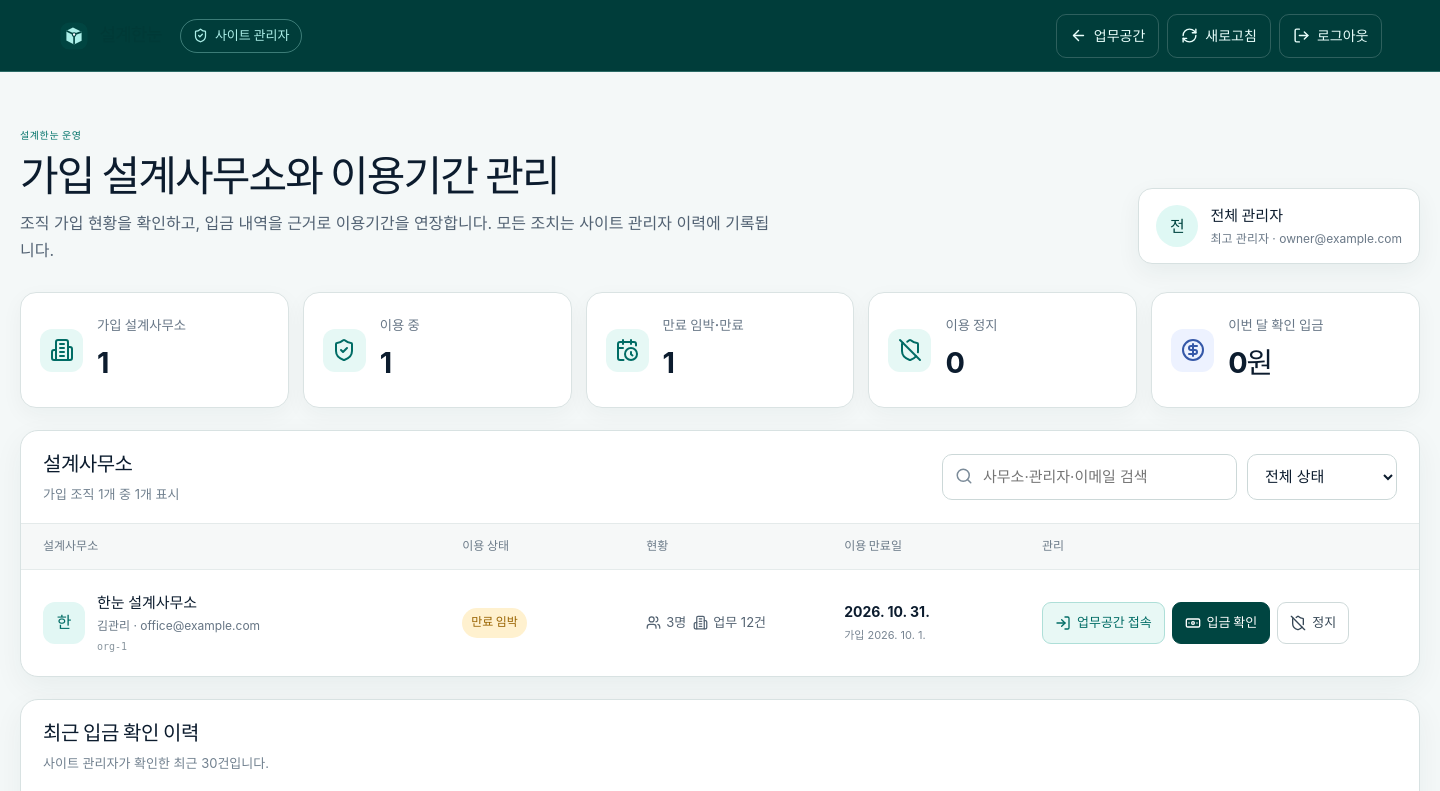
it: 사이트 전체 관리자 › 가입 사무소 현황을 표시하고 입금 확인으로 이용기간을 연장한다
expect the text "한눈 설계사무소" is shown: met, box [97,593,197,612]
expect the text "업무 12건" is shown: met, box [693,612,766,633]
Click the button "입금 확인". click: [1221, 623]
box: [1172,602,1270,644]
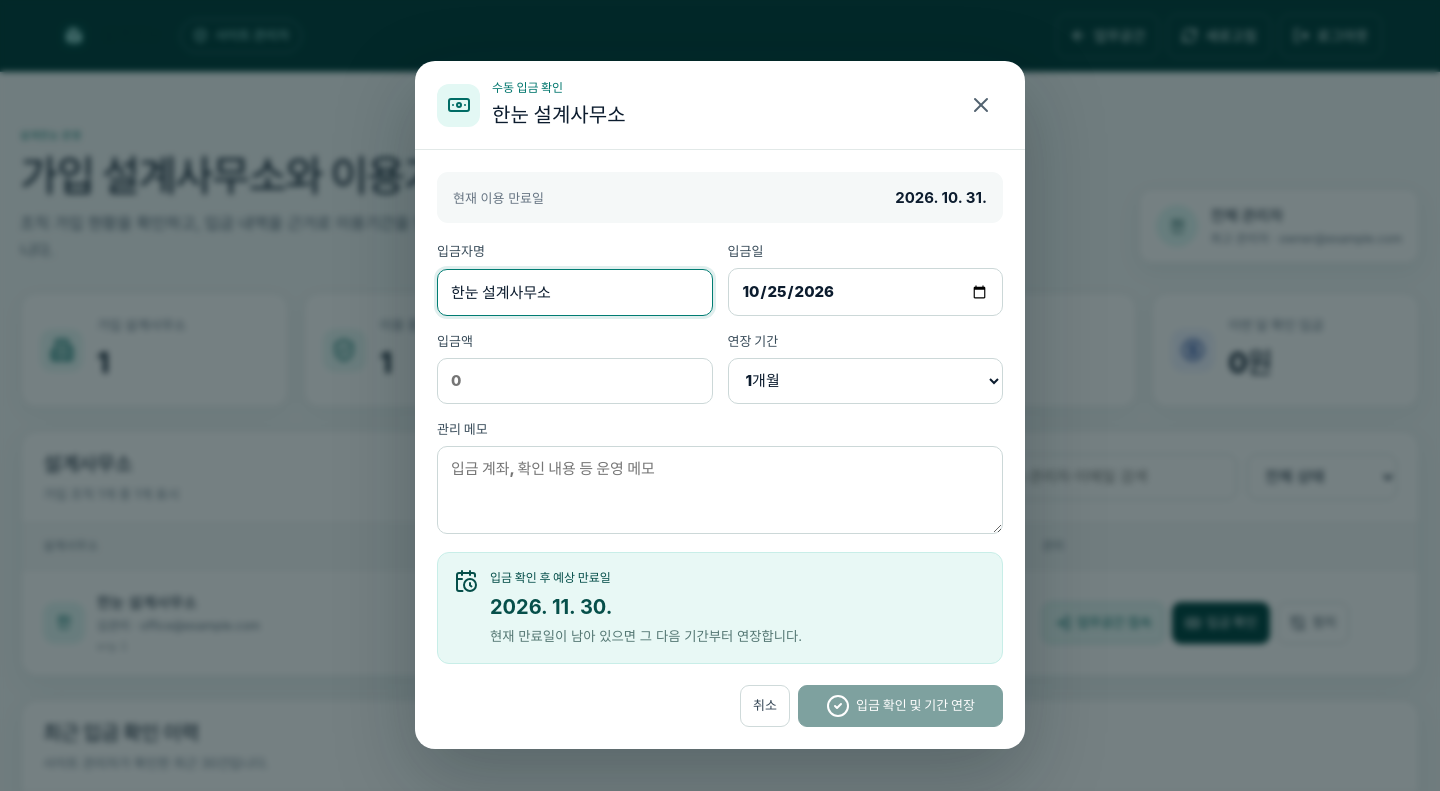
expect the dialog "한눈 설계사무소" is shown: met, box [415,62,1025,749]
Type "330000" into the field labelled "입금액". click: [575, 381]
box: [437,358,712,404]
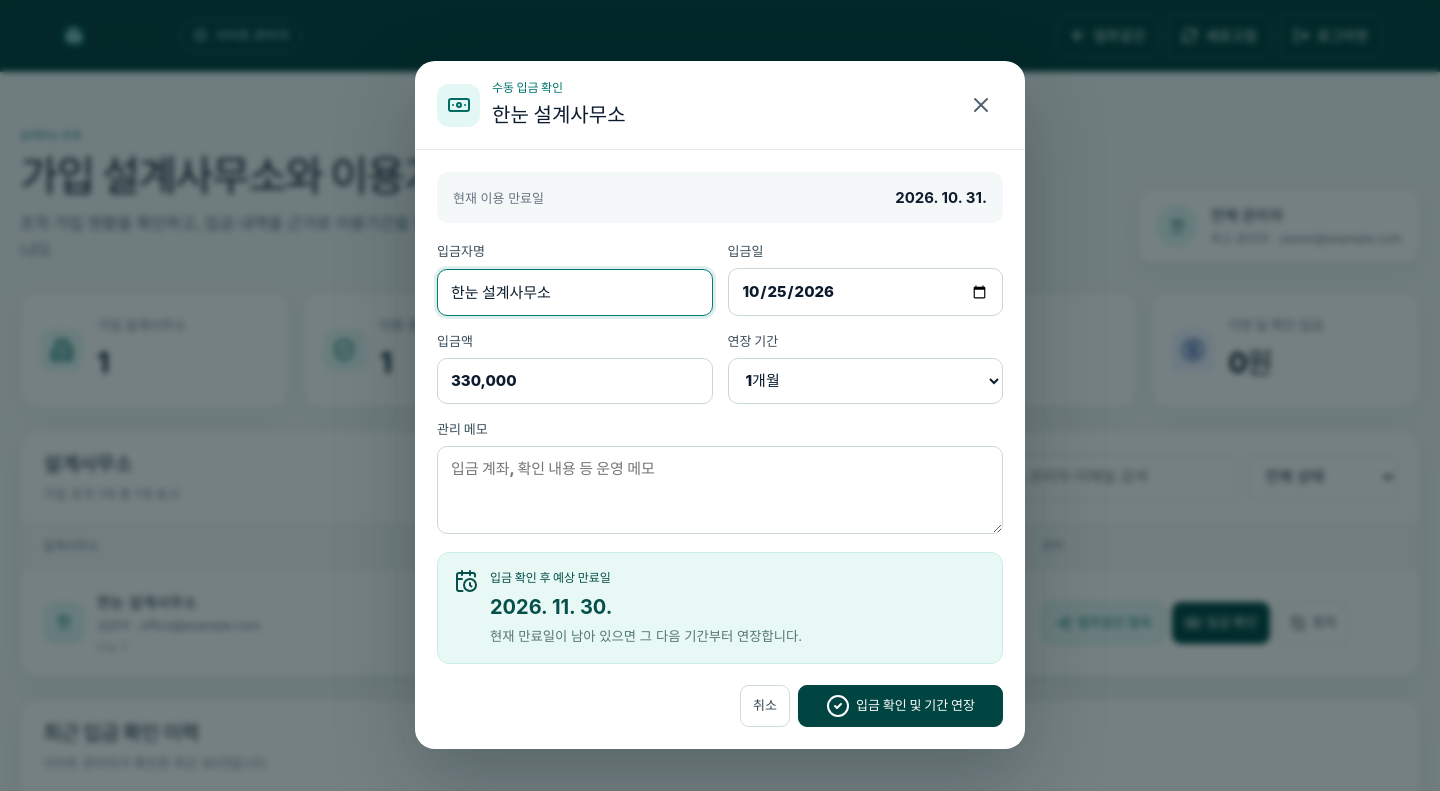
Select "3개월" in the dropdown labelled "연장 기간". click: [865, 381]
box: [728,358,1003,404]
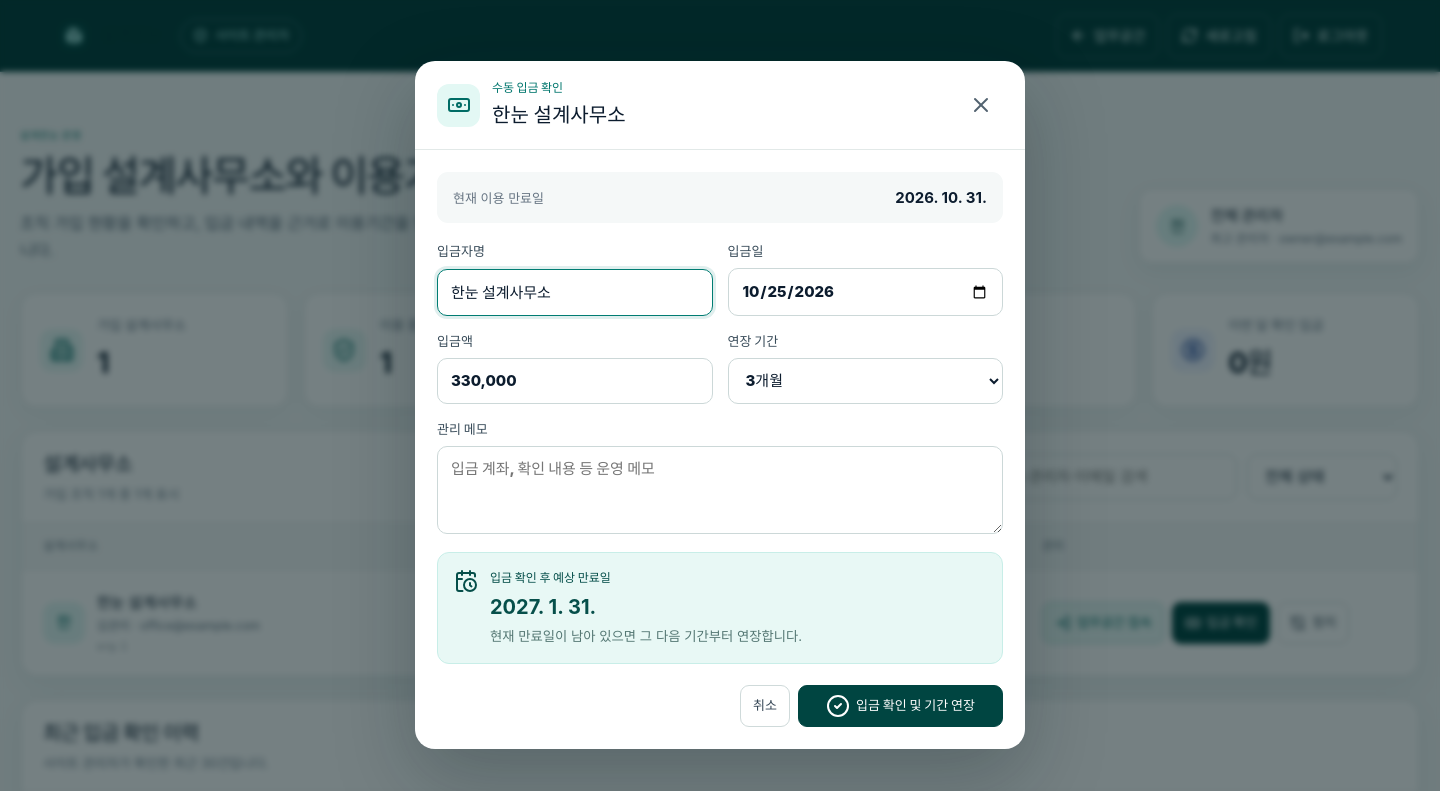
Click the button "입금 확인 및 기간 연장". click: [900, 706]
box: [798,684,1003,726]
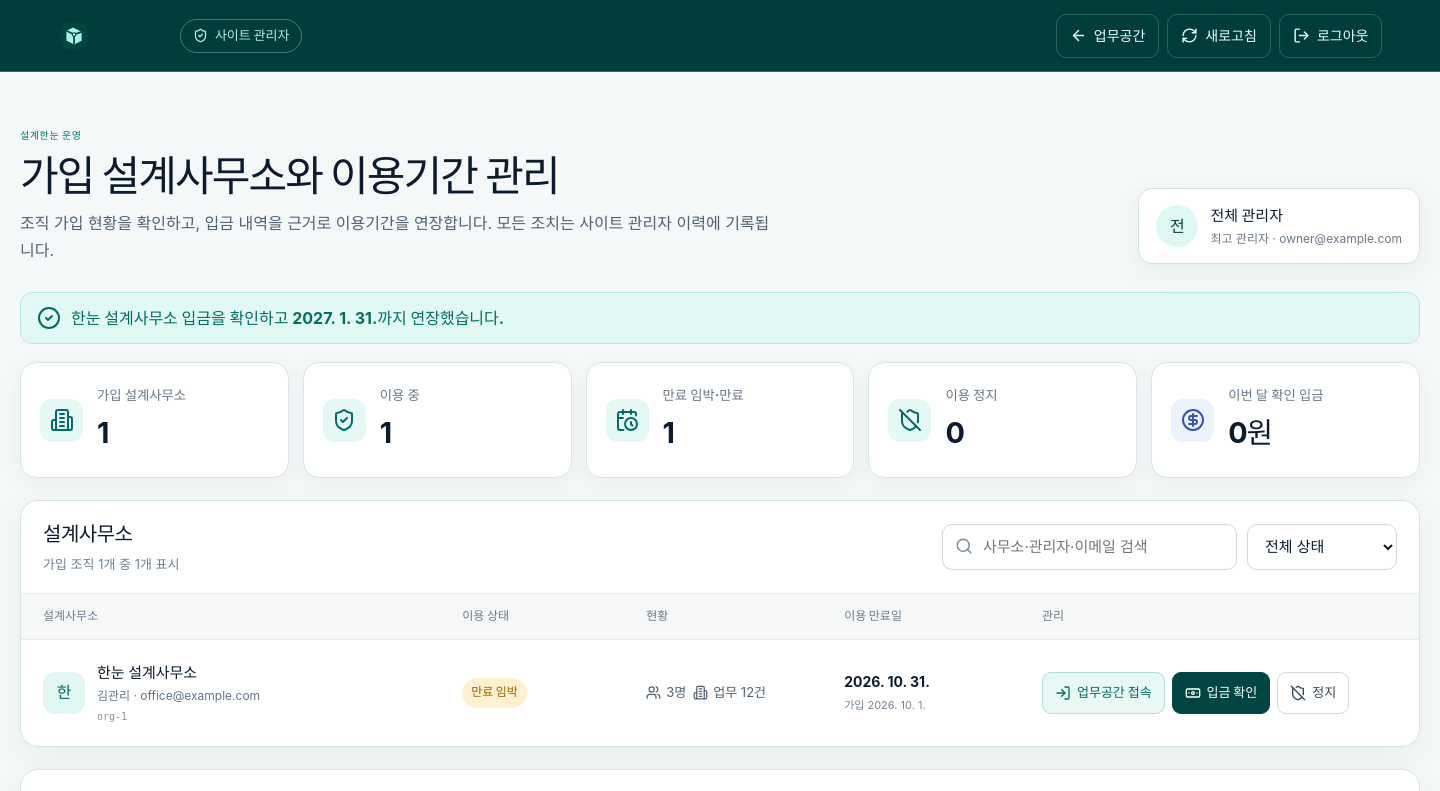
expect the text "한눈 설계사무소 입금을 확인하고 2027. 1. 31.까지 연장했습니다." is shown: met, box [20,292,1420,344]
